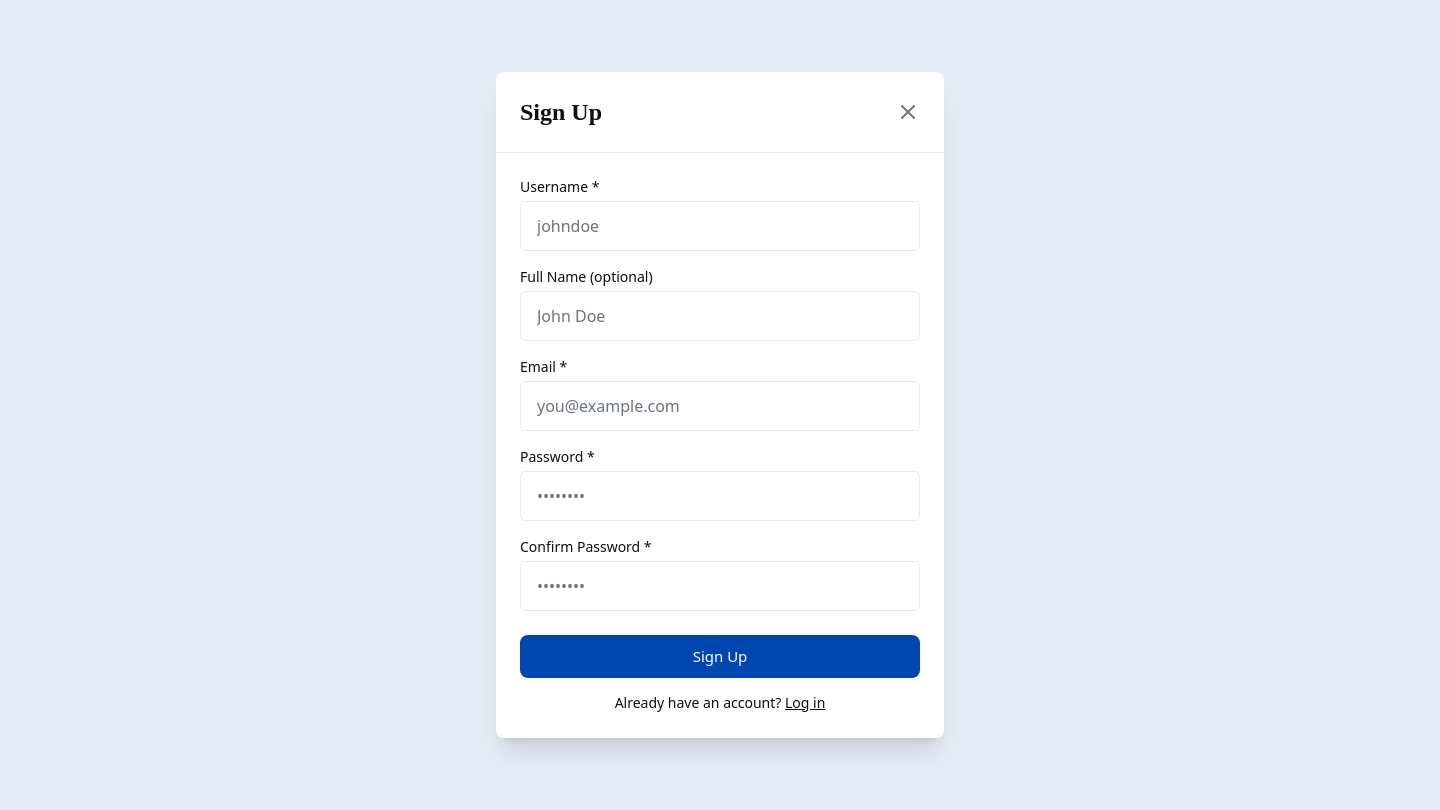
Test: AuthModal › signup password mismatch shows error
Type "newuser" into the field labelled "Username *". click: (720, 226)
box: [520,201,920,251]
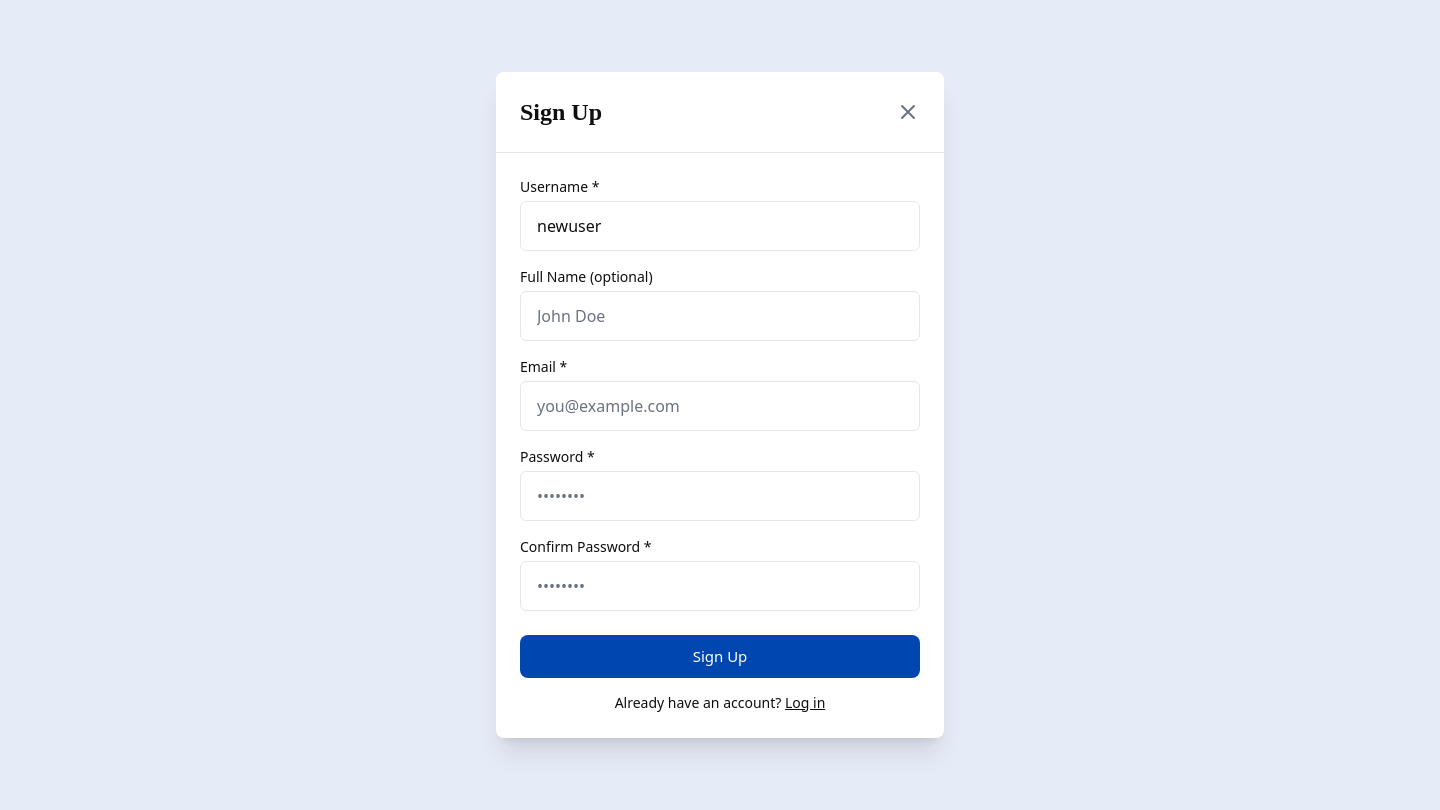
Type "new@example.com" into the field labelled "Email *". click: (720, 406)
box: [520,381,920,431]
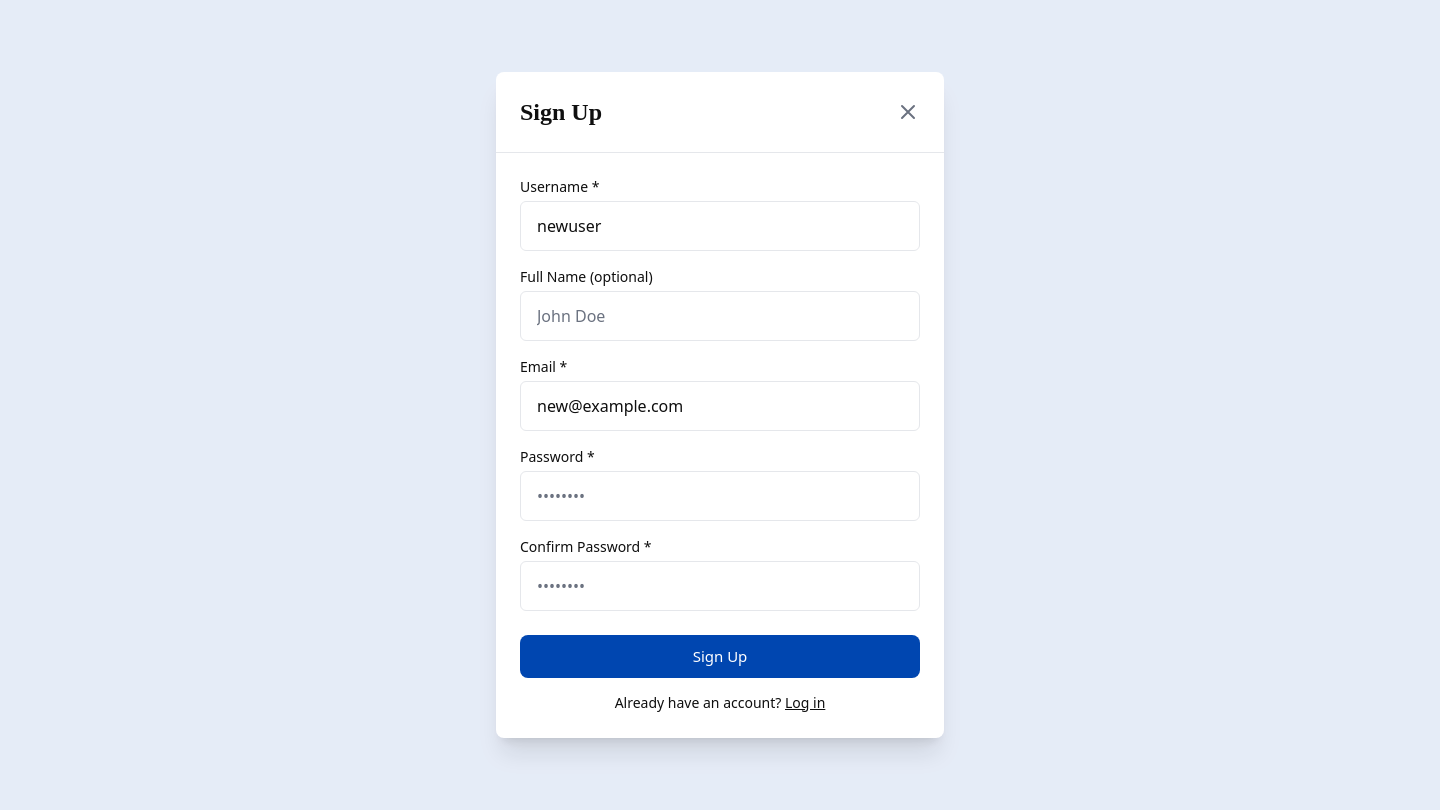
Type "abc123" into the password field labelled "Password *". click: (720, 496)
box: [520,471,920,521]
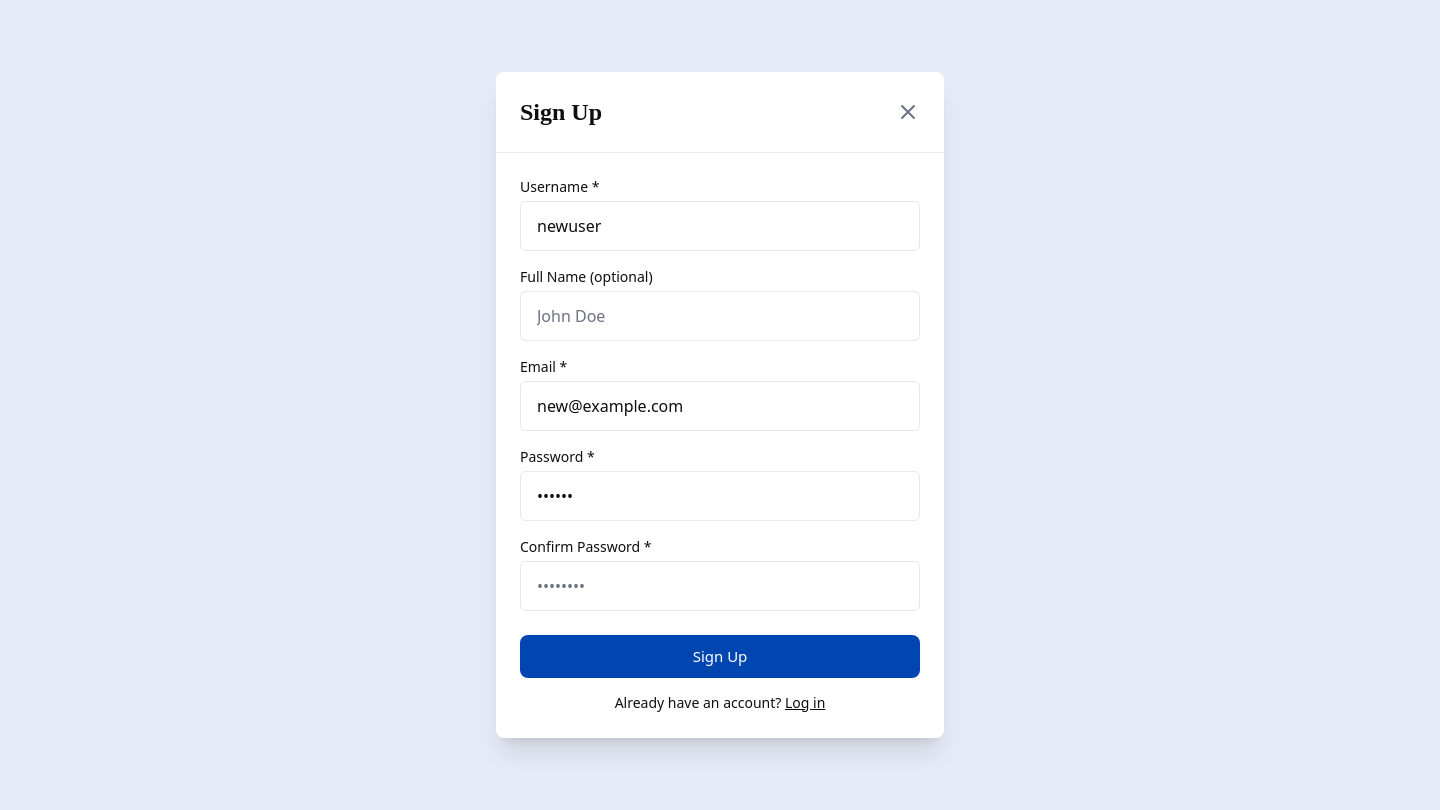
Type "different" into the password field labelled "Confirm Password *". click: (720, 586)
box: [520,561,920,611]
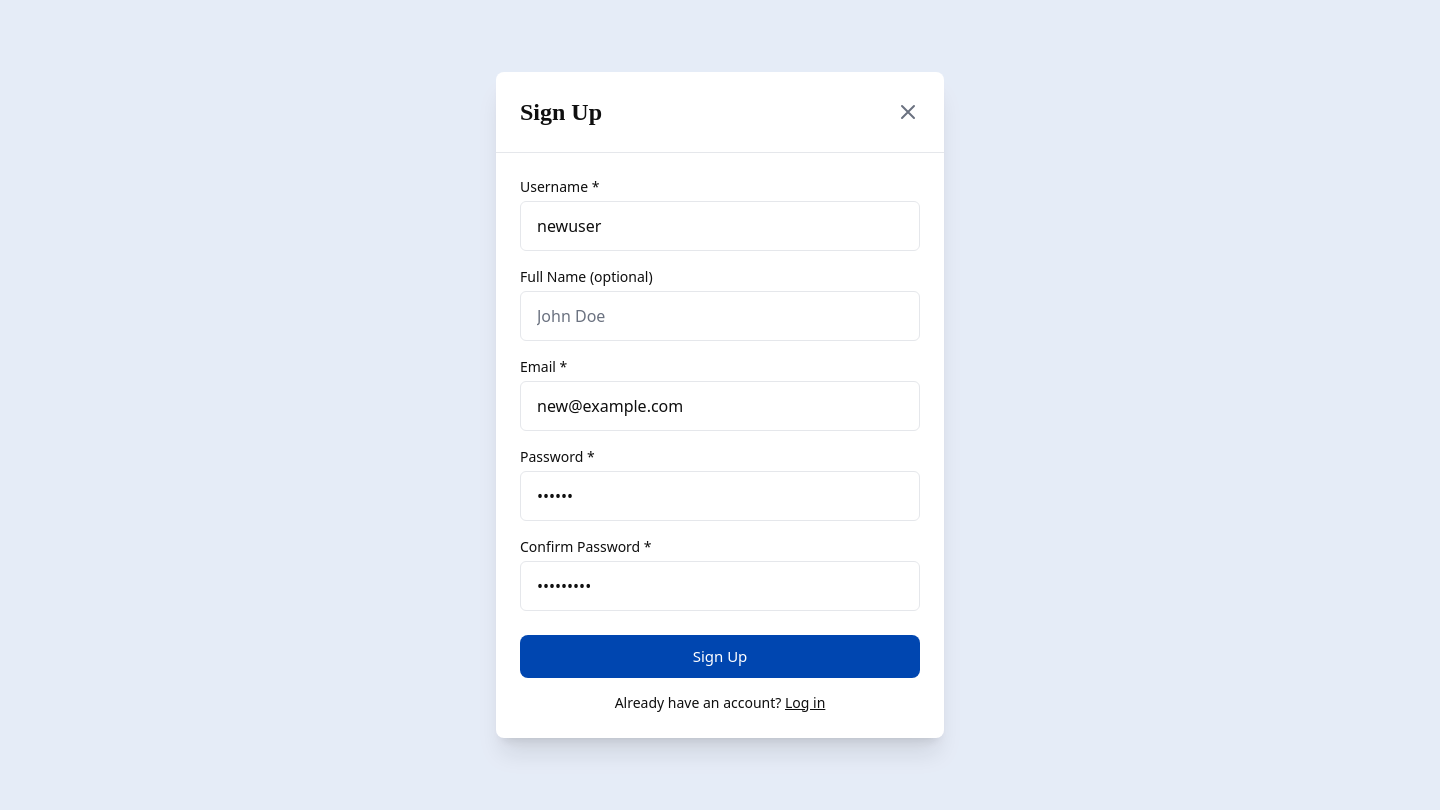
Click the button "Sign Up". click: (720, 657)
box: [520,635,920,678]
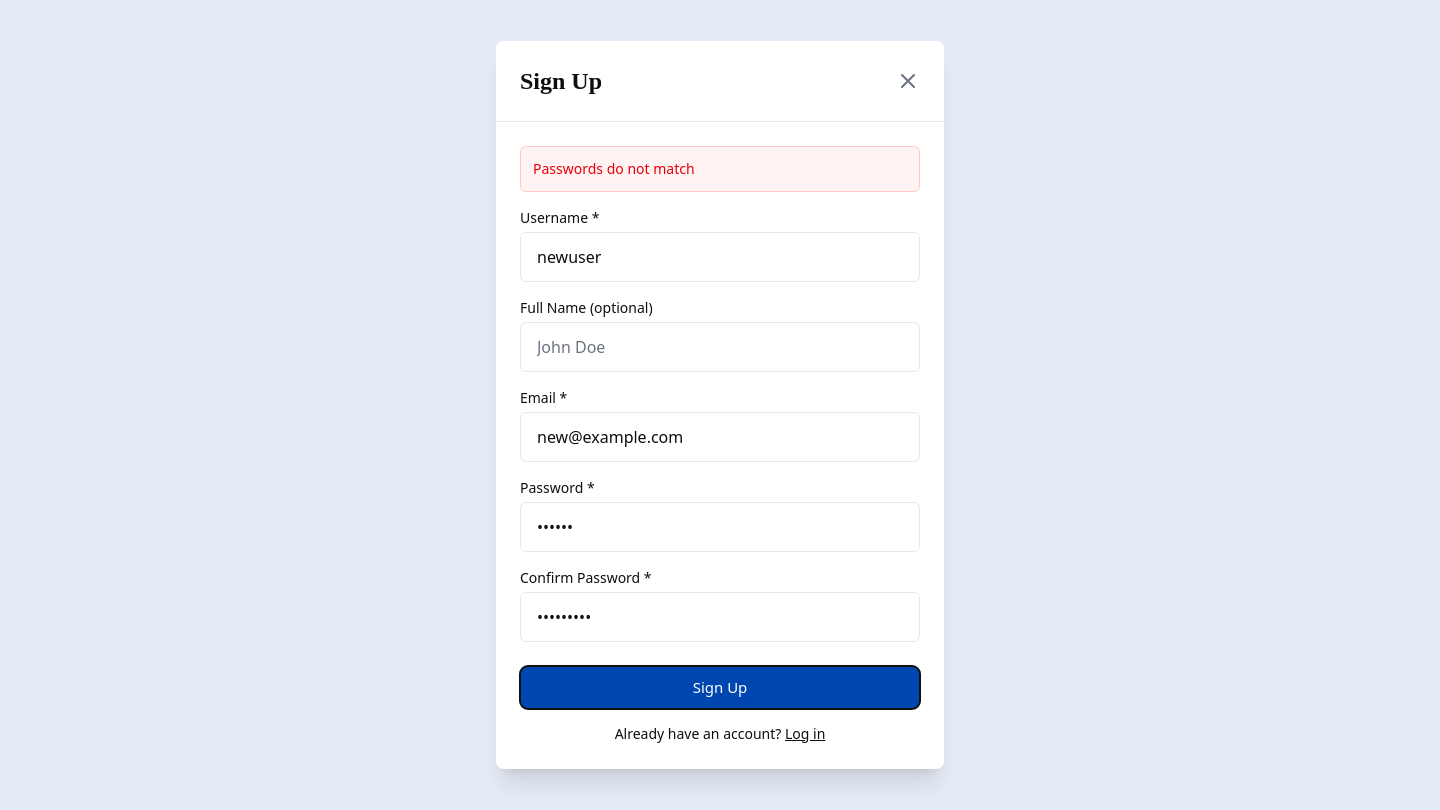
expect the text "Passwords do not match" is shown: met, box [533,159,695,178]
